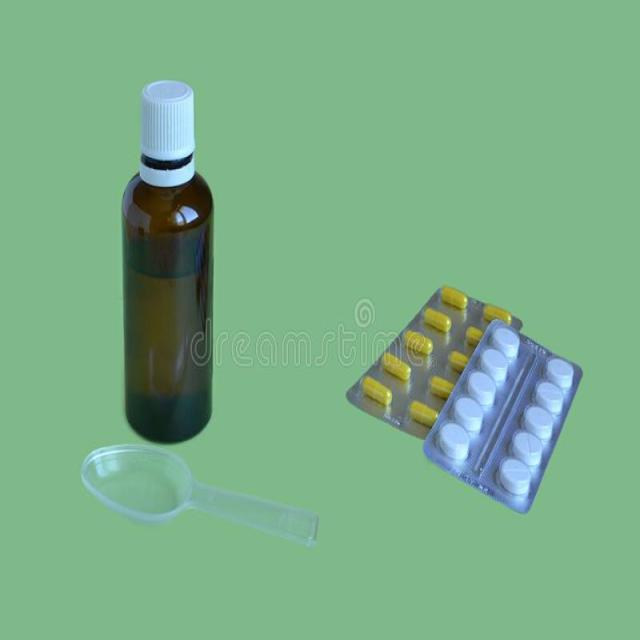B3: (112, 63, 235, 456), (426, 313, 586, 524)
